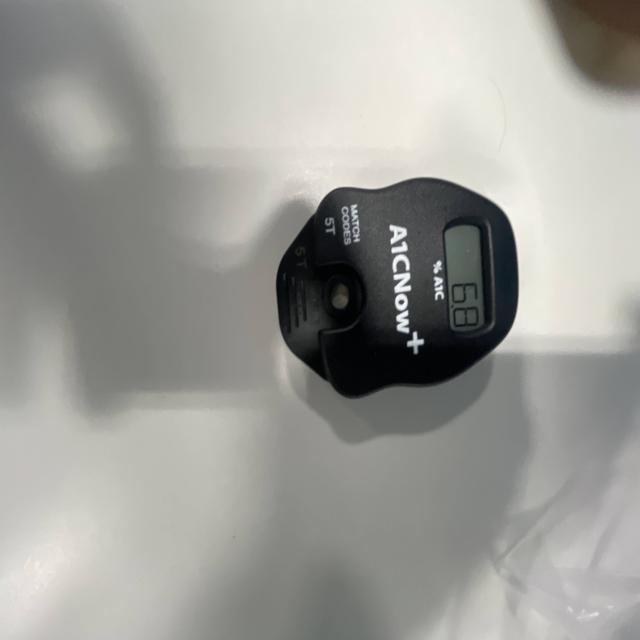hba1c: (274, 179, 520, 404)
